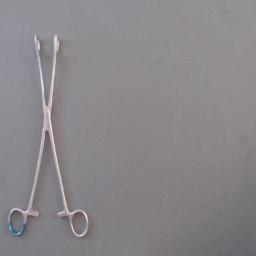Sponge Forceps: (5, 26, 93, 242)
